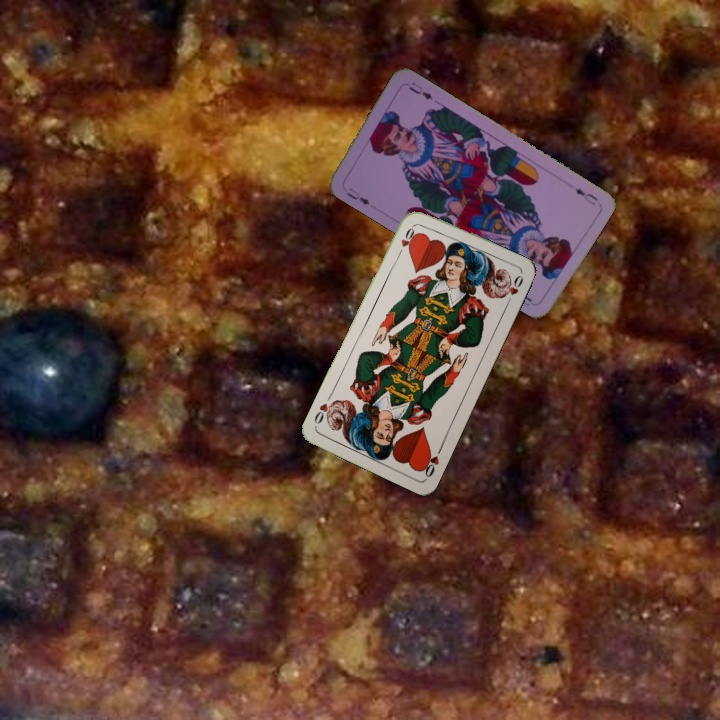EU: (570, 184, 600, 208), (343, 184, 372, 208)
HO: (418, 442, 445, 480), (393, 221, 417, 259)
